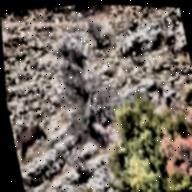boar: (12, 114, 56, 160)
